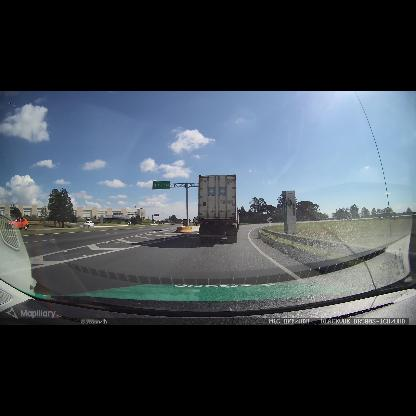O-MP: (183, 219, 187, 226)
R-19: (266, 217, 273, 223), (193, 217, 199, 223)
